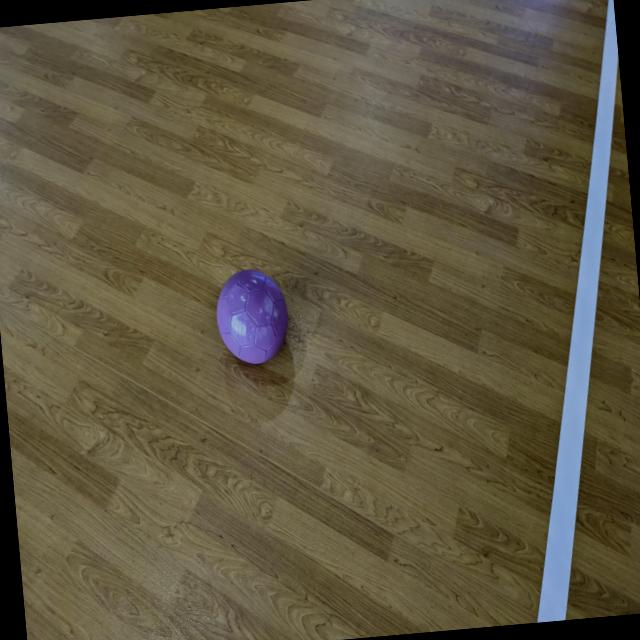purple_ball: (213, 264, 293, 366)
